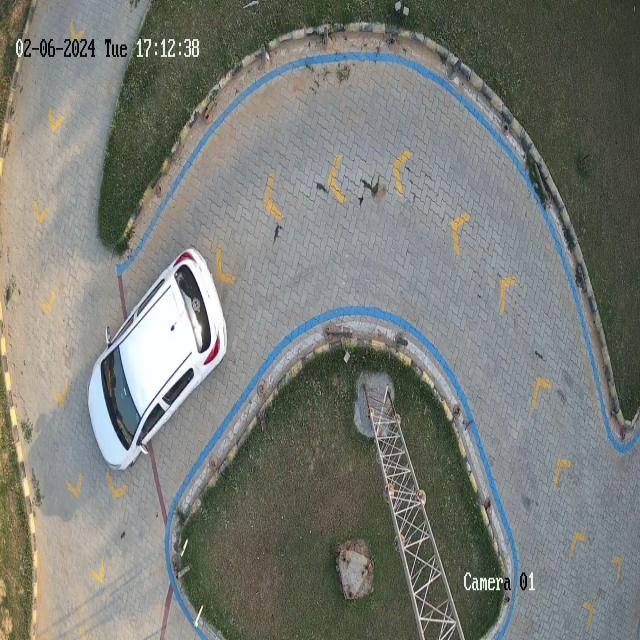car: (88, 249, 228, 470)
